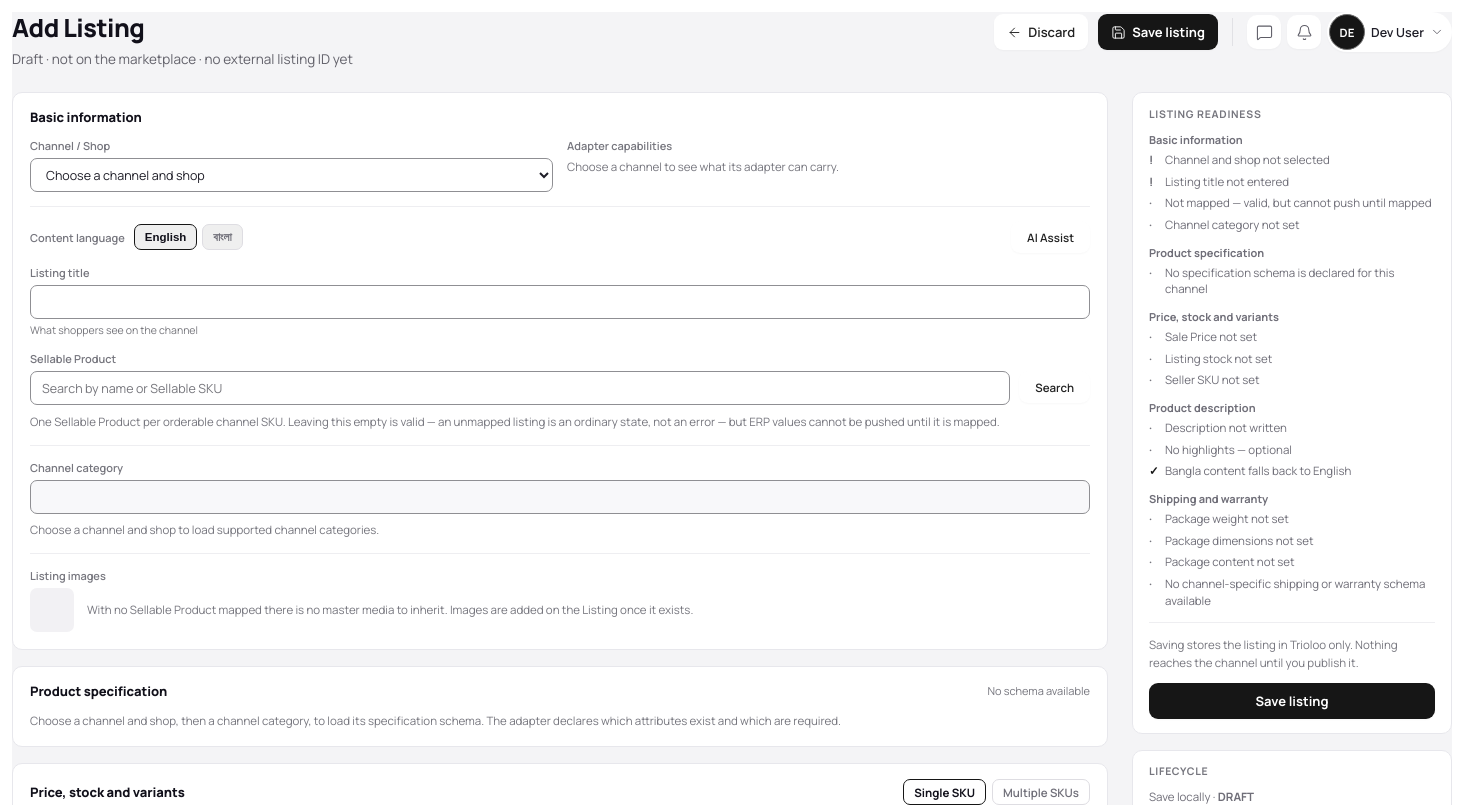
Test: Frame 09 — basic information › requires one channel and shop to be chosen explicitly
Type "A title" into the field with test id "field-intended-title" at (560, 302), box [30,285,1090,319]
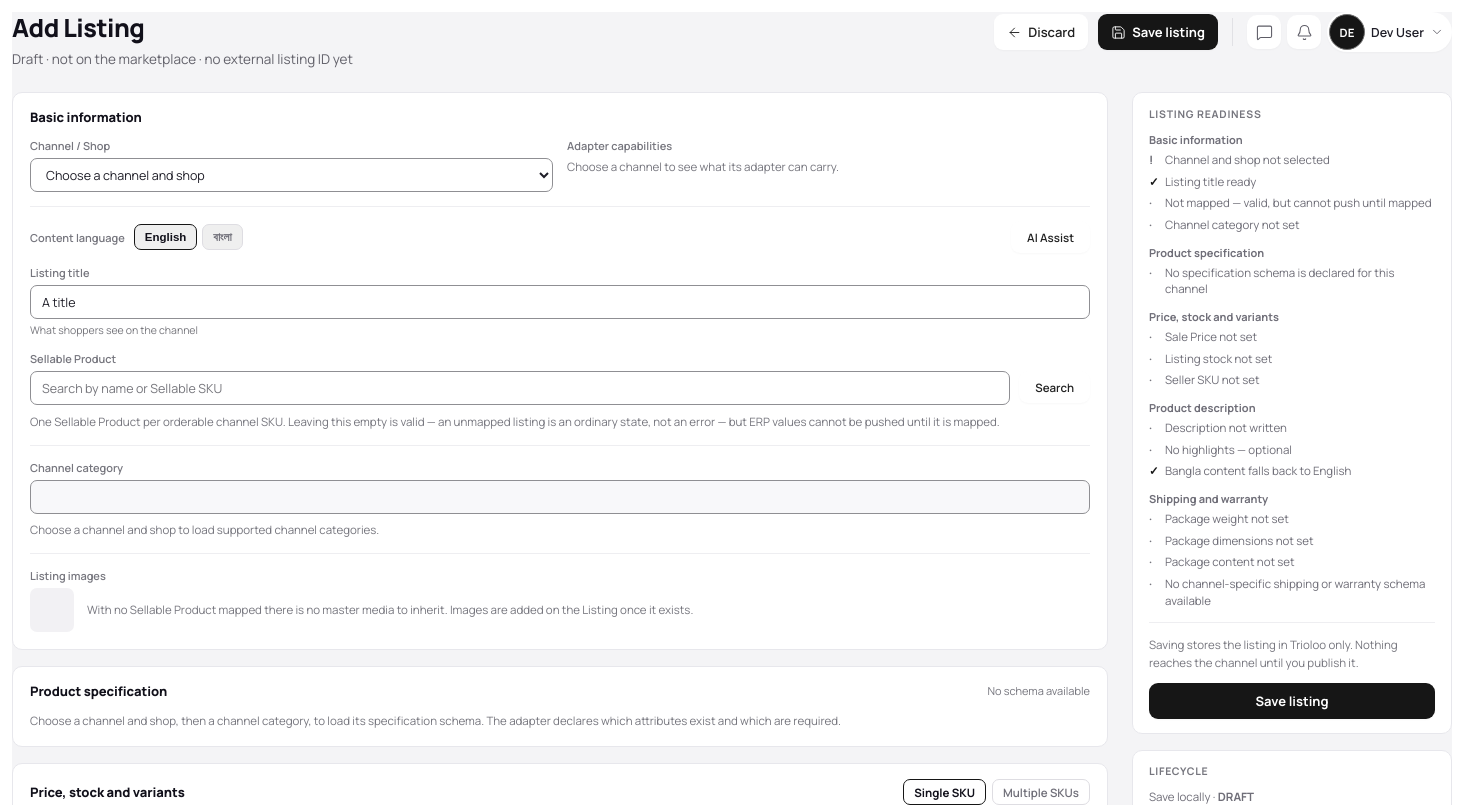
Click the button with test id "create-save" at (1292, 701), box [1149,683,1435,719]
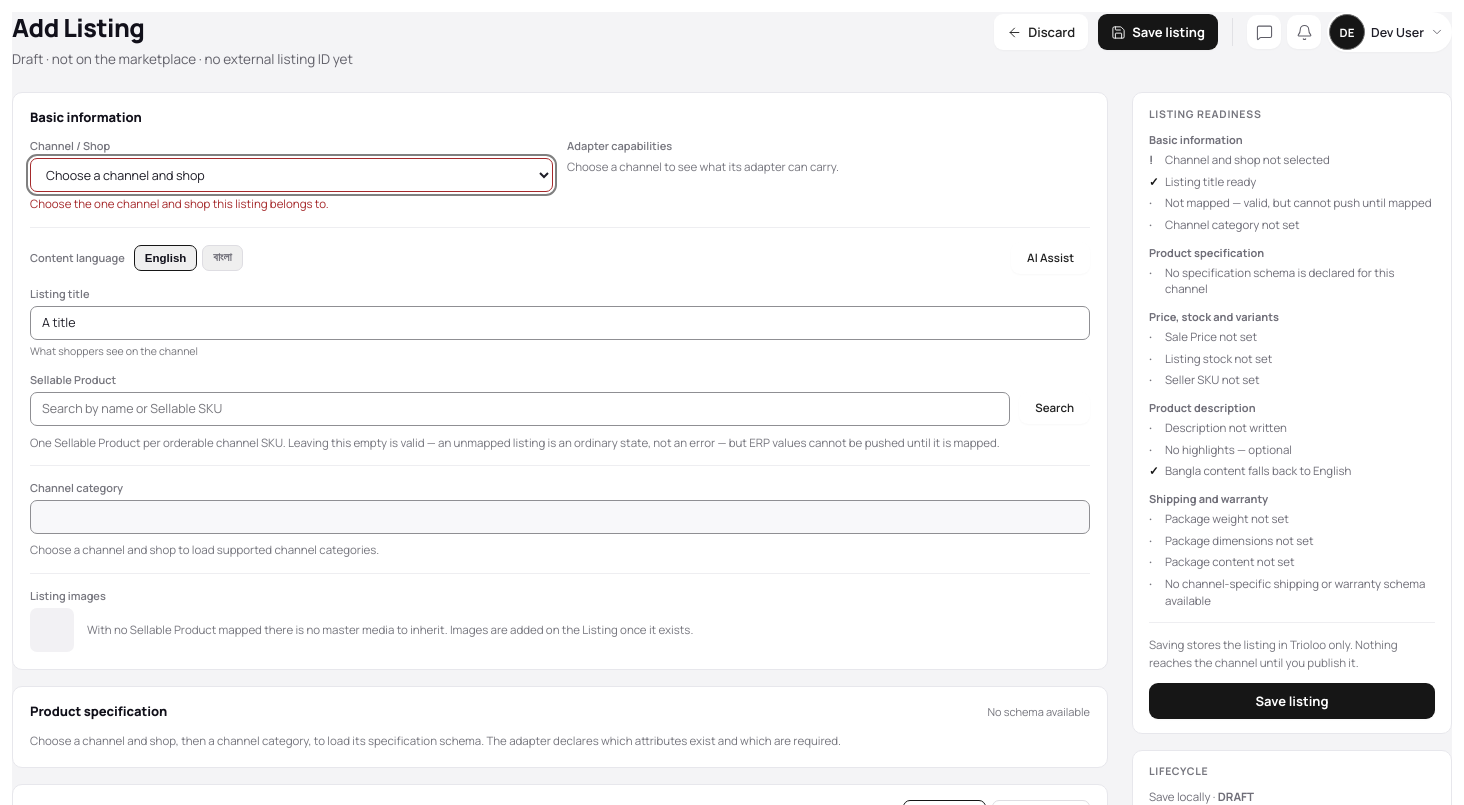
Result: the message "Choose the one channel and shop this listing belongs to." is shown at [30,196,329,211]
